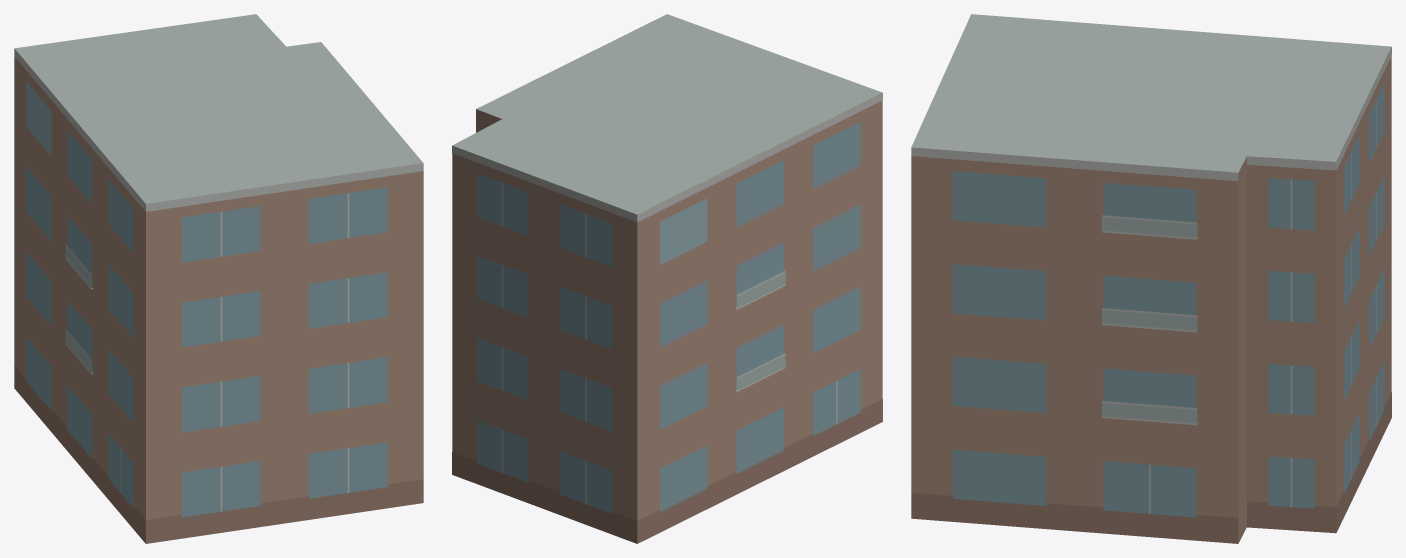
The model's file is survey-upis-33006461.glb.
3 views of the same model, side by side, from view 1: azimuth 30°, elevation 25°; view 2: azimuth 150°, elevation 25°; view 3: azimuth 270°, elevation 25° (orthographic). The views are drawn at different scales.
Parts seen in each view (by area): view 1: survey-upis-33006461.tmp; view 2: survey-upis-33006461.tmp; view 3: survey-upis-33006461.tmp.
Part boxes in pixels (x1=…): survey-upis-33006461.tmp: x1=14, y1=14, x2=423, y2=543; survey-upis-33006461.tmp: x1=452, y1=14, x2=882, y2=543; survey-upis-33006461.tmp: x1=911, y1=14, x2=1391, y2=543.
Size of the model in its own units: 9.64 by 10.5 by 12.33.
